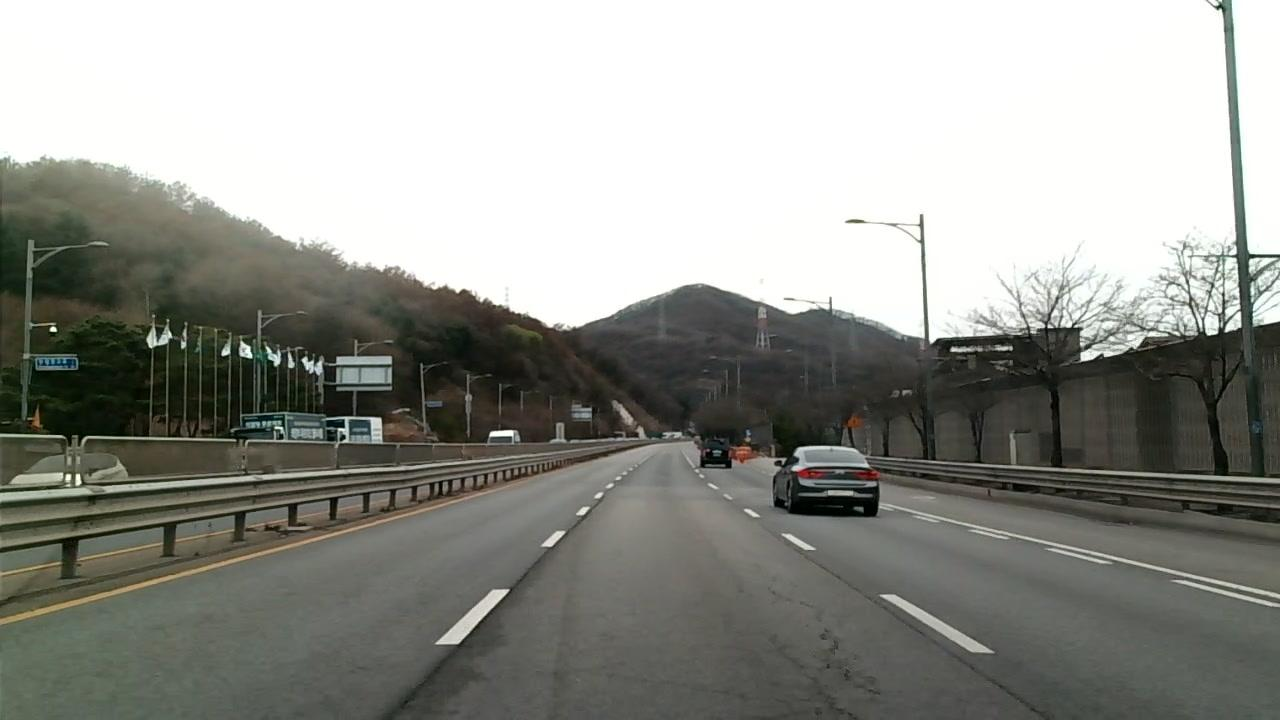banner: (358, 492, 609, 720), (783, 540, 1057, 717), (757, 578, 880, 695)
